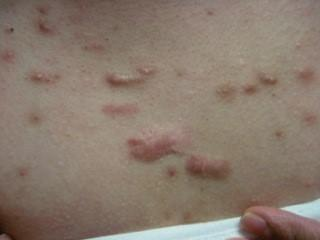blackhead: (30, 7, 62, 46)
keloid: (123, 127, 183, 165), (184, 154, 235, 186), (100, 74, 142, 89)
purulent: (258, 69, 283, 87), (30, 68, 52, 86)
